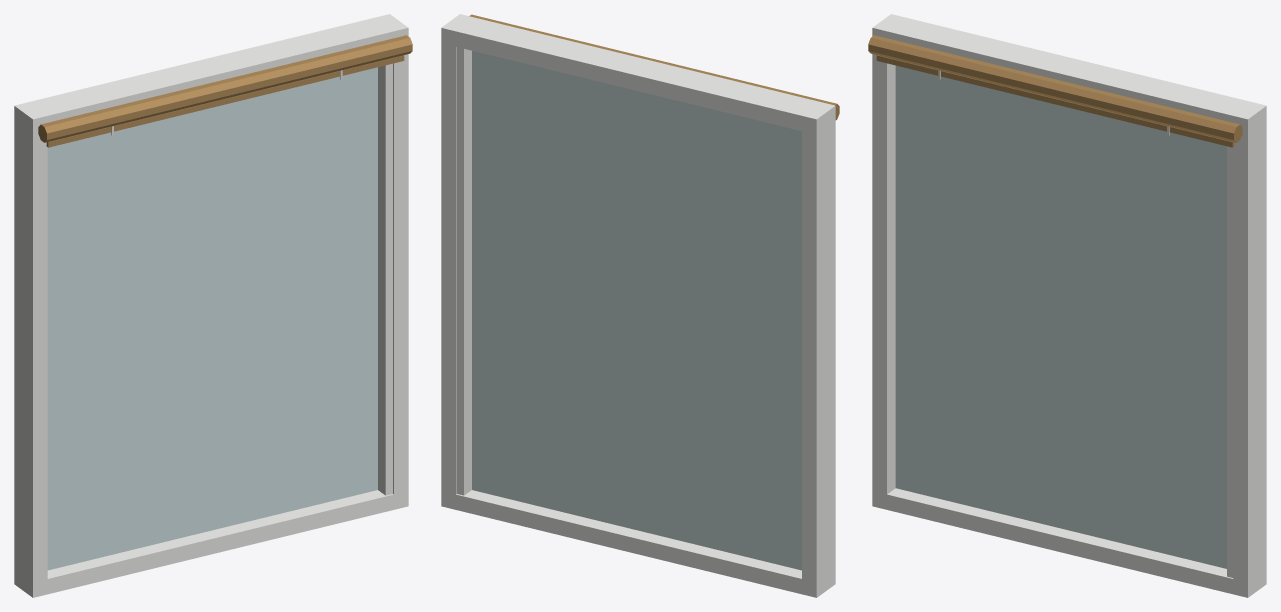
3 views of the same model, side by side, from view 1: azimuth 30°, elevation 25°; view 2: azimuth 150°, elevation 25°; view 3: azimuth 330°, elevation 25° (orthographic).
Parts seen in each view (by area): view 1: Glass, Frame, ShadeRoll, Mullion, ShadeSlats; view 2: Glass, Frame, Mullion, ShadeRoll; view 3: Glass, Frame, ShadeRoll, Mullion, ShadeSlats.
Boxes of the visible parts, x1=… form: Glass: x1=47, y1=67, x2=377, y2=570; Frame: x1=14, y1=14, x2=408, y2=597; ShadeRoll: x1=38, y1=35, x2=412, y2=142; Mullion: x1=378, y1=63, x2=392, y2=495; ShadeSlats: x1=46, y1=55, x2=404, y2=147; Glass: x1=472, y1=50, x2=801, y2=570; Frame: x1=441, y1=14, x2=835, y2=597; Mullion: x1=456, y1=47, x2=471, y2=495; ShadeRoll: x1=469, y1=14, x2=839, y2=120; Glass: x1=895, y1=65, x2=1226, y2=568; Frame: x1=872, y1=14, x2=1266, y2=597; ShadeRoll: x1=868, y1=35, x2=1242, y2=142; Mullion: x1=1227, y1=146, x2=1233, y2=577; ShadeSlats: x1=876, y1=55, x2=1234, y2=147.
Bounding box in the file's own units: 1.15 × 1.4 × 0.1481.
